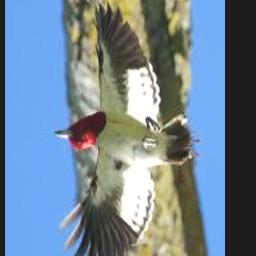Woodpecker: (54, 0, 198, 256)
